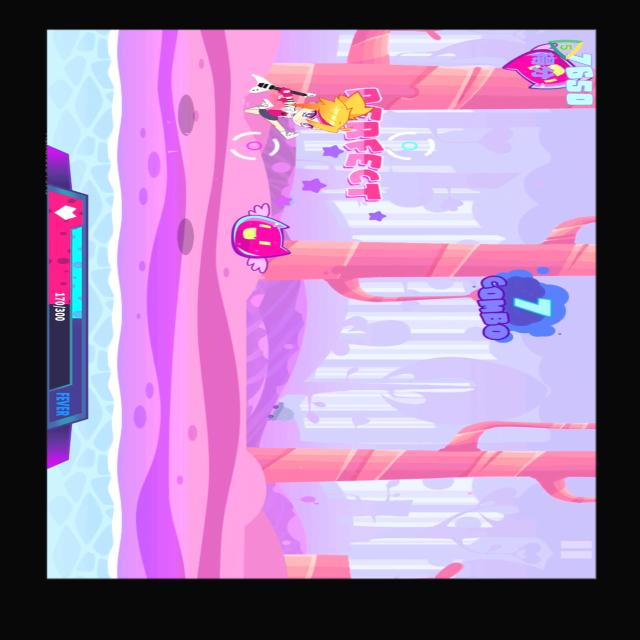mao: (212, 202, 298, 278)
